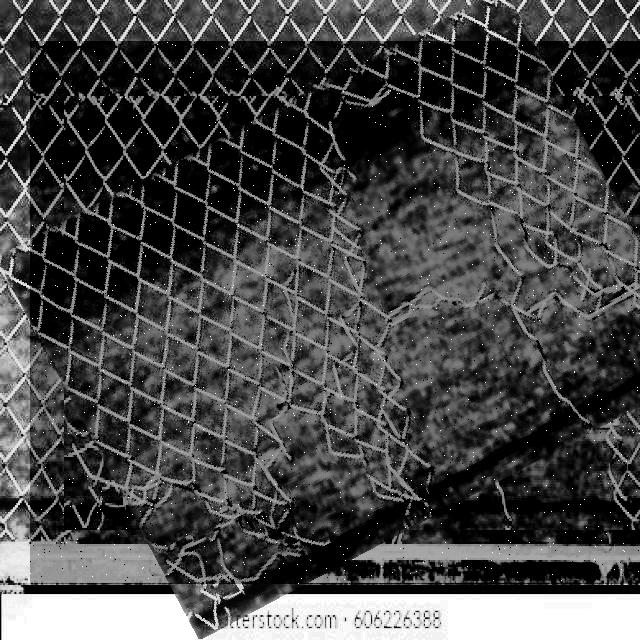anomaly-fence: (30, 41, 640, 584)
